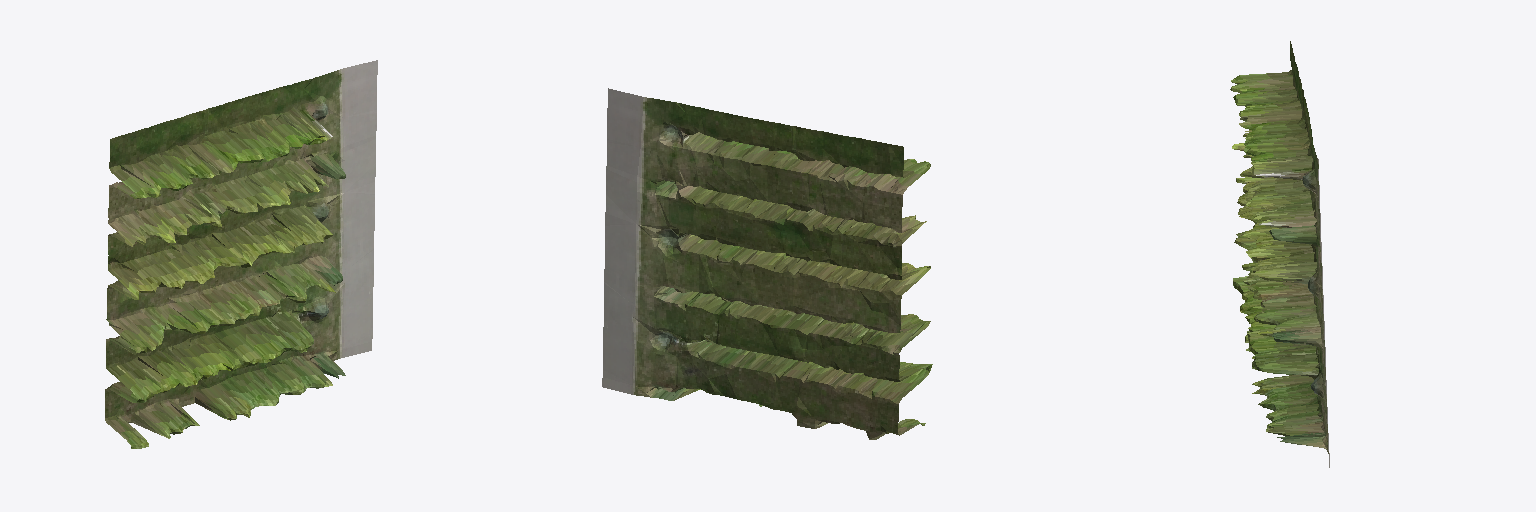
3 renders of one model, left to right at view 1: azimuth 30°, elevation 25°; view 2: azimuth 150°, elevation 25°; view 3: azimuth 270°, elevation 25°, orthographic.
Visible parts, largest first — view 1: grp1; view 2: grp1; view 3: grp1.
Part boxes in pixels (x1,y1,x2,y2): grp1: (105, 60, 377, 448); grp1: (602, 88, 932, 439); grp1: (1230, 41, 1329, 467).
Bounding box in the file's own units: 10 × 10 × 3.06.
Materials: 1 (1 with a texture image).